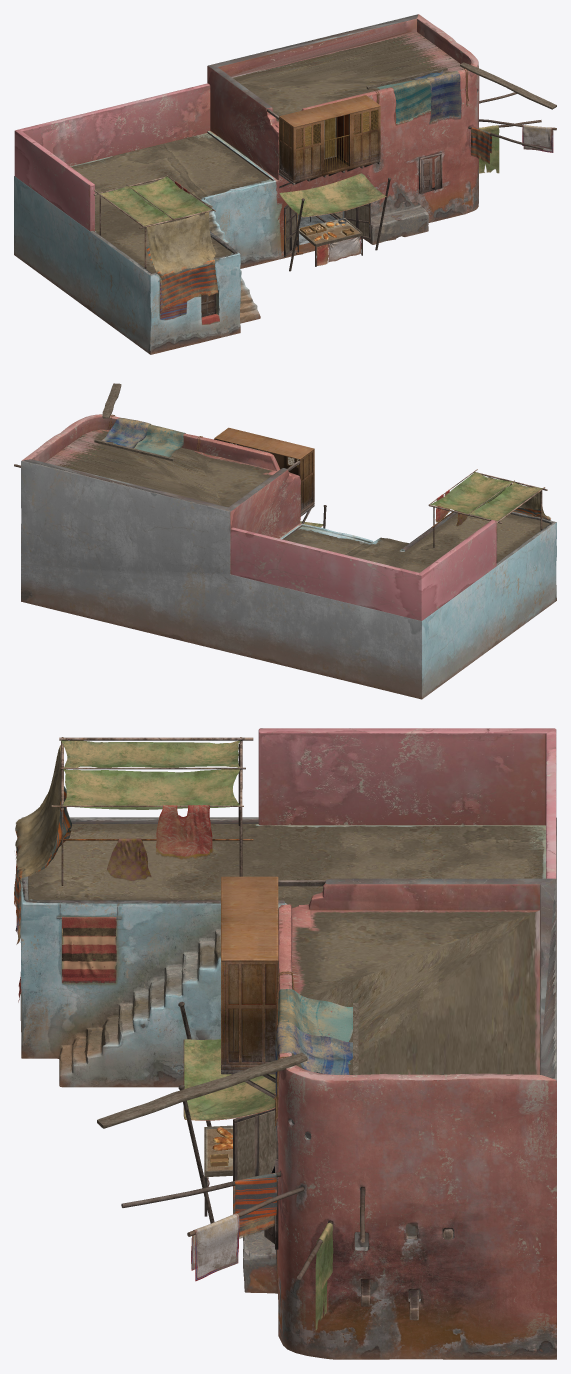
File: xi_oam_building_stair.gltf
3 renders of one model, top to bottom at view 1: azimuth 30°, elevation 25°; view 2: azimuth 150°, elevation 25°; view 3: azimuth 270°, elevation 25°, orthographic. The views are drawn at different scales.
Visible parts, largest first — view 1: xi_oam_building_stair; view 2: xi_oam_building_stair; view 3: xi_oam_building_stair.
Boxes of the visible parts, <box> form: xi_oam_building_stair: <box>14,14,556,354</box>; xi_oam_building_stair: <box>14,383,556,699</box>; xi_oam_building_stair: <box>14,728,556,1359</box>.
Bounding box in the file's own units: 18.47 × 5.54 × 9.58.
9 materials, 9 textured.
